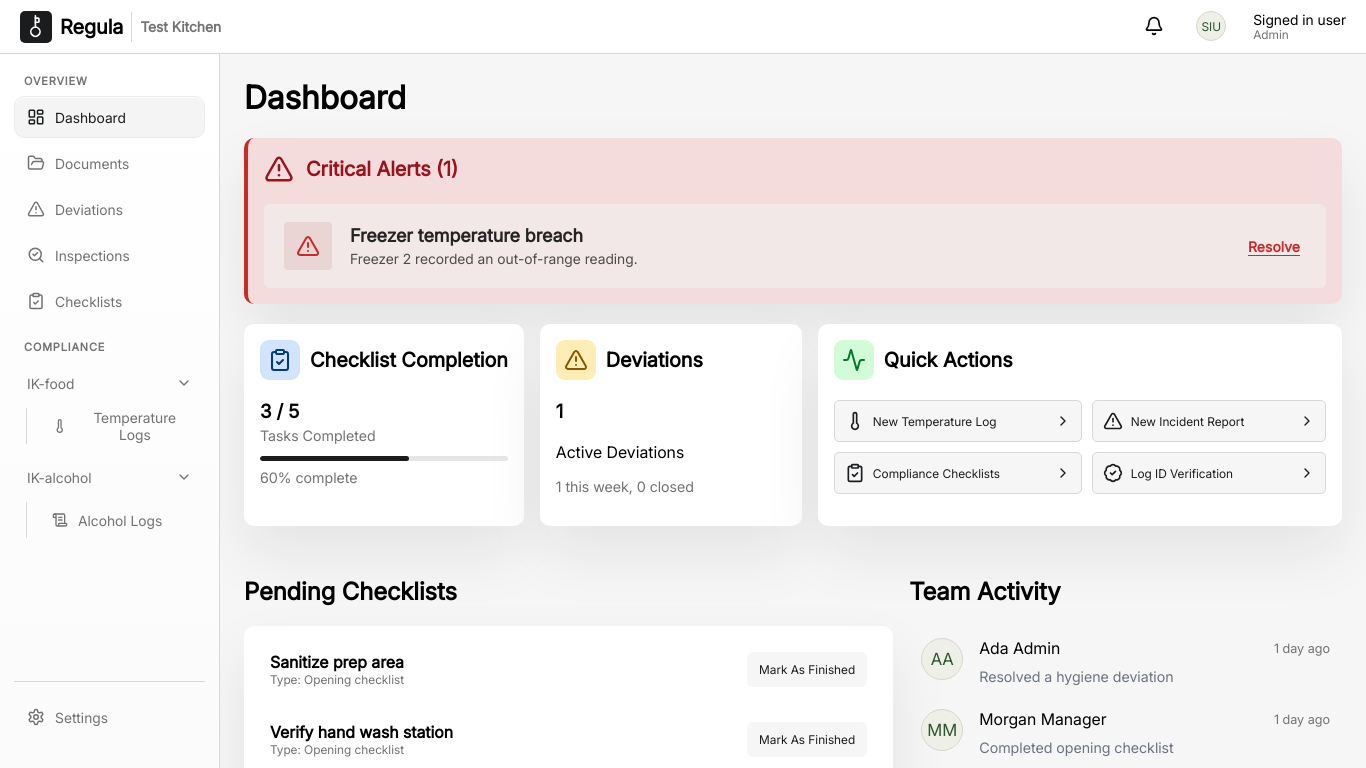
Scenario: Dashboard view › renders overview data, resolves a critical alert, and navigates from quick actions
Expected: the heading "Dashboard" is shown, 244,78 -> 406,117
Expected: the heading "Checklist Completion" reads "3 / 5", 260,400 -> 299,423
Step 1. Click the button "Resolve" → x=1274, y=247, box 1242,229 -> 1306,264
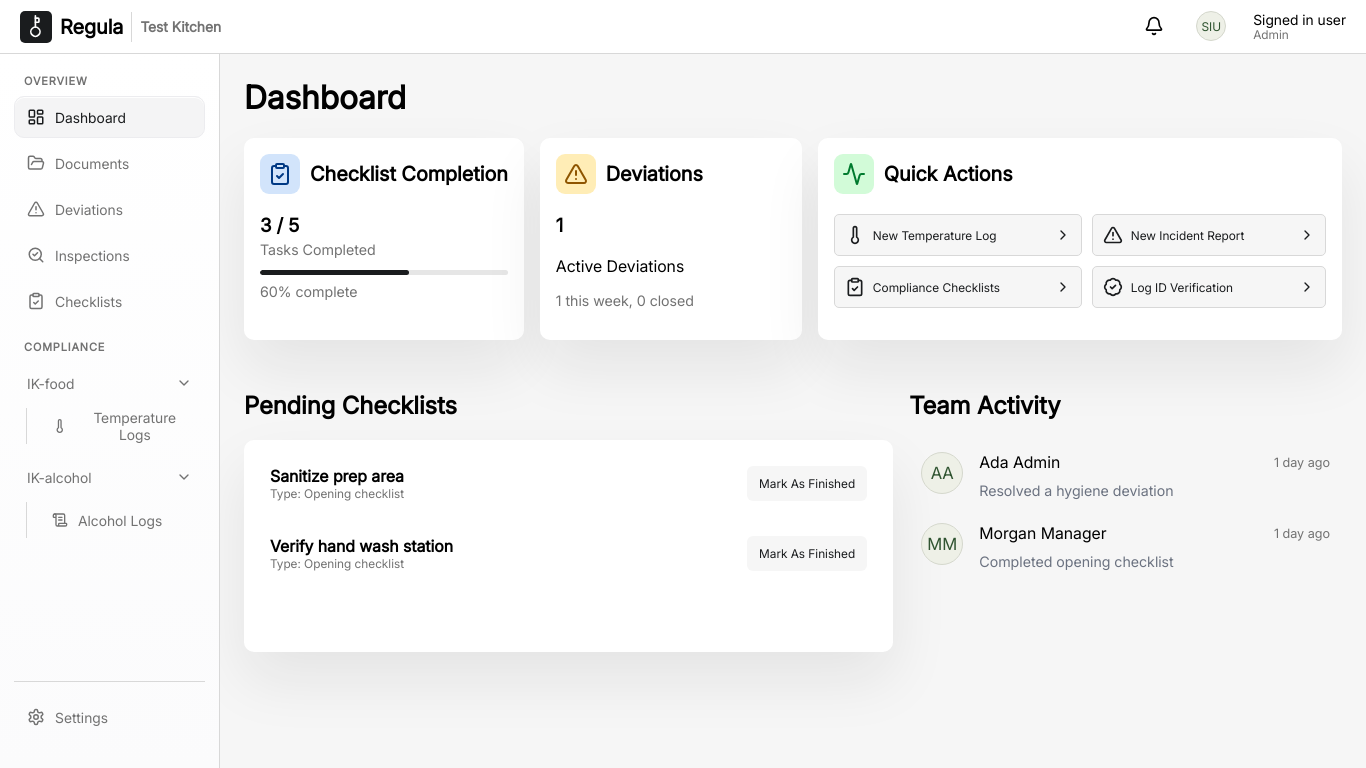
Expected: the text "Freezer temperature breach" is gone
Step 2. Click the button "New Temperature Log" → x=958, y=235, box 834,214 -> 1082,256
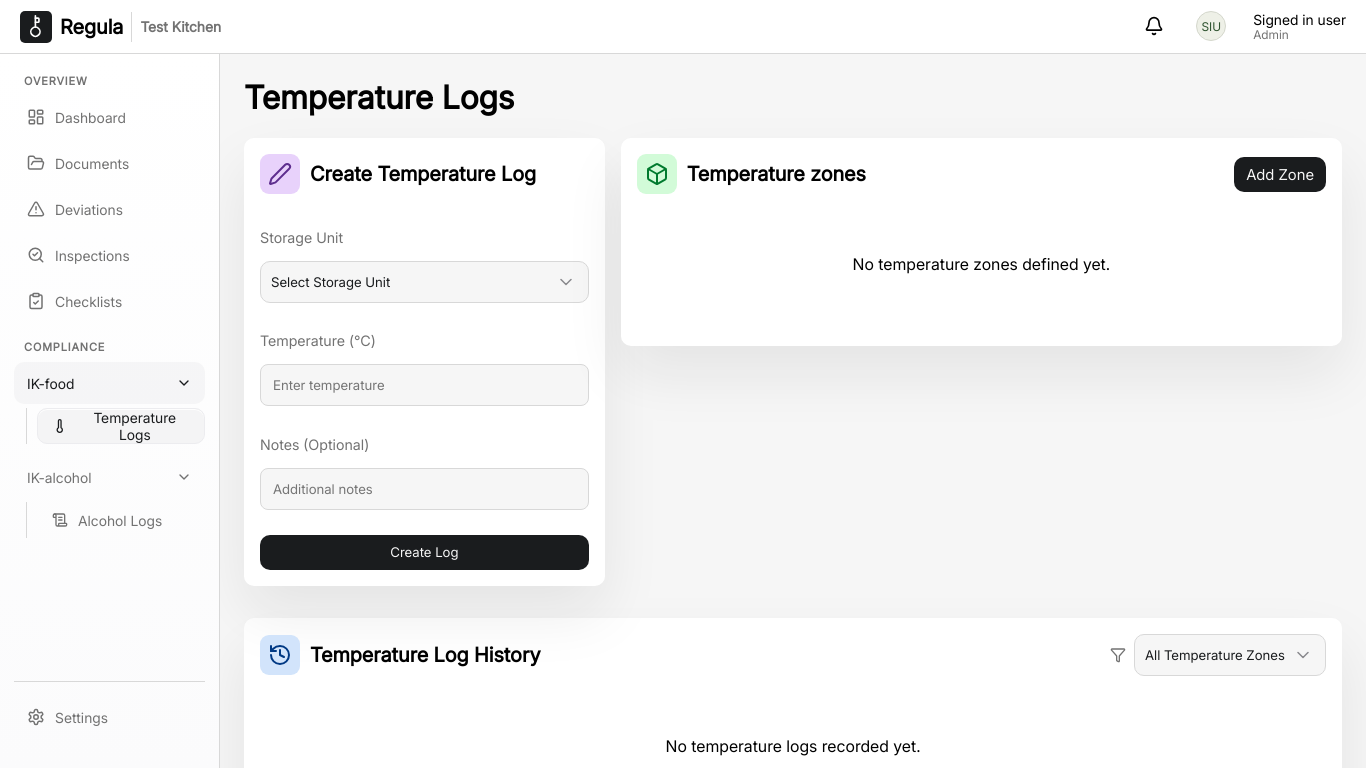
Expected: the heading "Temperature Logs" is shown, 244,78 -> 514,117
